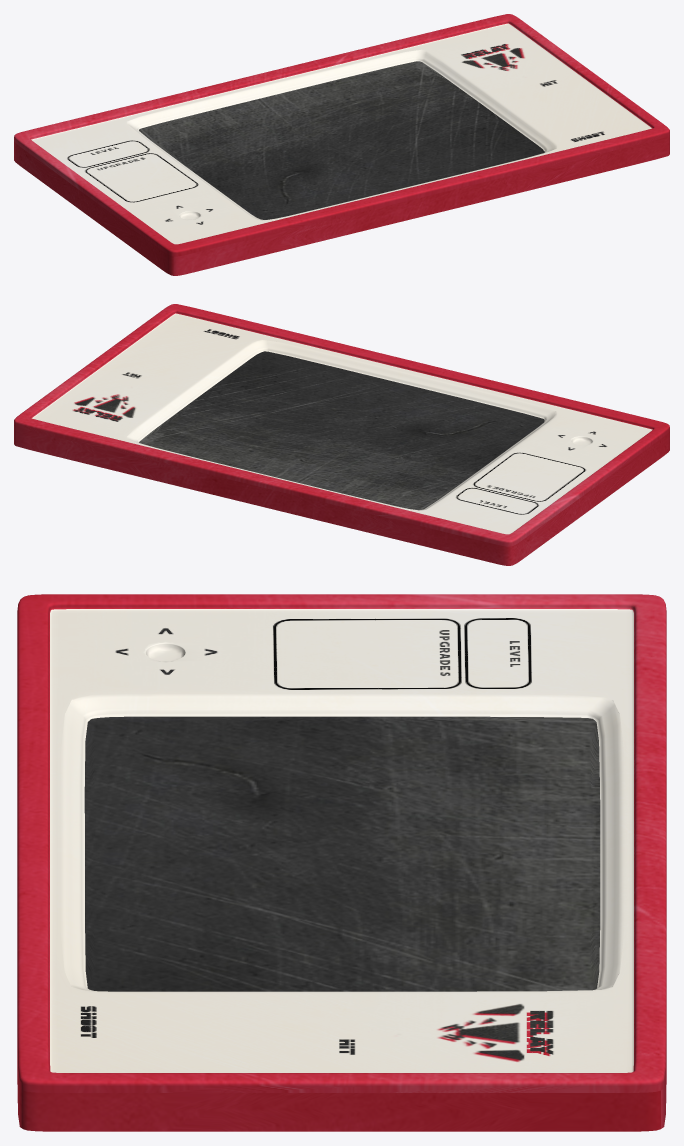
File: Gameboy.fbx
3 renders of one model, top to bottom at view 1: azimuth 30°, elevation 25°; view 2: azimuth 150°, elevation 25°; view 3: azimuth 270°, elevation 25°, orthographic. The views are drawn at different scales.
Visible parts, largest first — view 1: polySurface4; view 2: polySurface4; view 3: polySurface4.
Part boxes in pixels (<box>): polySurface4: <box>14,14,669,275</box>; polySurface4: <box>14,304,669,565</box>; polySurface4: <box>17,594,666,1131</box>.
Bounding box in the file's own units: 16.07 × 0.7654 × 9.01.
